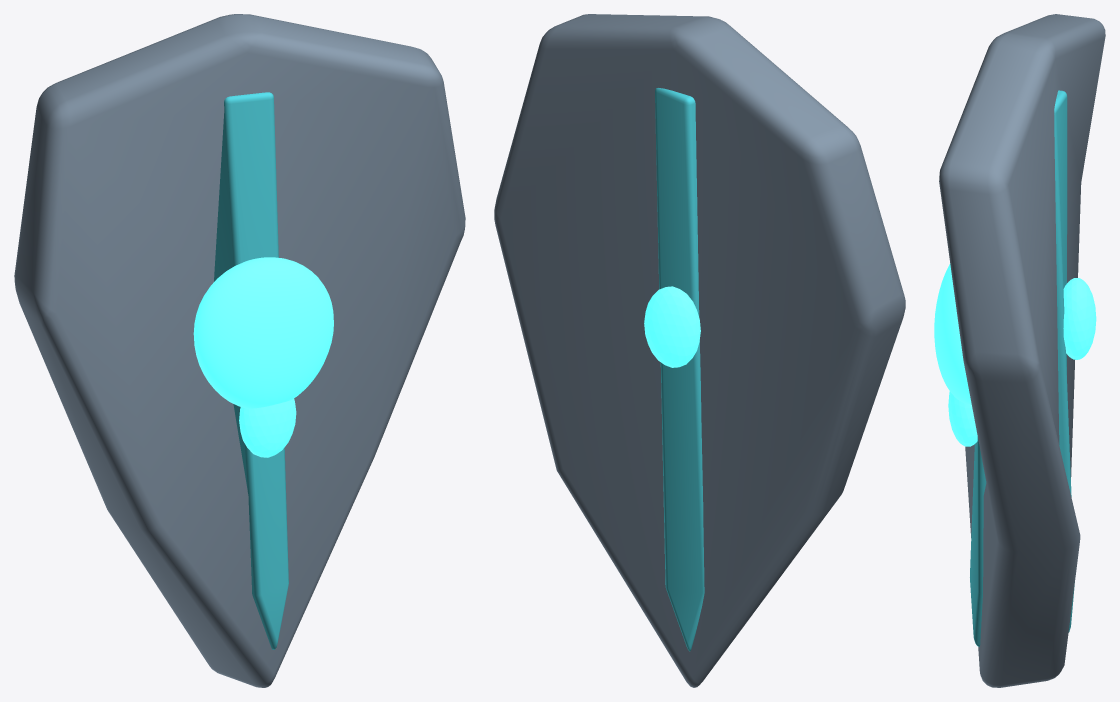
The model's file is shield_v8.glb.
3 renders of one model, left to right at view 1: azimuth 30°, elevation 25°; view 2: azimuth 150°, elevation 25°; view 3: azimuth 270°, elevation 25°, orthographic.
Visible parts, largest first — view 1: KITE_SHIELD_PRIMARY, KITE_BOSS_EMISSIVE, KITE_RIDGE_ACCENT, ASCENDANT_GEM_EMISSIVE.003; view 2: KITE_SHIELD_PRIMARY, KITE_RIDGE_ACCENT, ASCENDANT_GEM_EMISSIVE.001; view 3: KITE_SHIELD_PRIMARY, KITE_RIDGE_ACCENT, KITE_BOSS_EMISSIVE, ASCENDANT_GEM_EMISSIVE.001, ASCENDANT_GEM_EMISSIVE.003.
Boxes of the visible parts, bbox=[...] form: KITE_SHIELD_PRIMARY: bbox=[14, 14, 465, 687]; KITE_BOSS_EMISSIVE: bbox=[193, 257, 333, 408]; KITE_RIDGE_ACCENT: bbox=[214, 92, 288, 649]; ASCENDANT_GEM_EMISSIVE.003: bbox=[239, 398, 296, 457]; KITE_SHIELD_PRIMARY: bbox=[494, 14, 905, 687]; KITE_RIDGE_ACCENT: bbox=[655, 88, 704, 651]; ASCENDANT_GEM_EMISSIVE.001: bbox=[644, 286, 700, 367]; KITE_SHIELD_PRIMARY: bbox=[939, 14, 1105, 687]; KITE_RIDGE_ACCENT: bbox=[970, 90, 1074, 646]; KITE_BOSS_EMISSIVE: bbox=[934, 263, 971, 404]; ASCENDANT_GEM_EMISSIVE.001: bbox=[1063, 278, 1096, 359]; ASCENDANT_GEM_EMISSIVE.003: bbox=[948, 391, 977, 446].
Size of the model in its own units: 2.13 by 3.26 by 0.7866.
